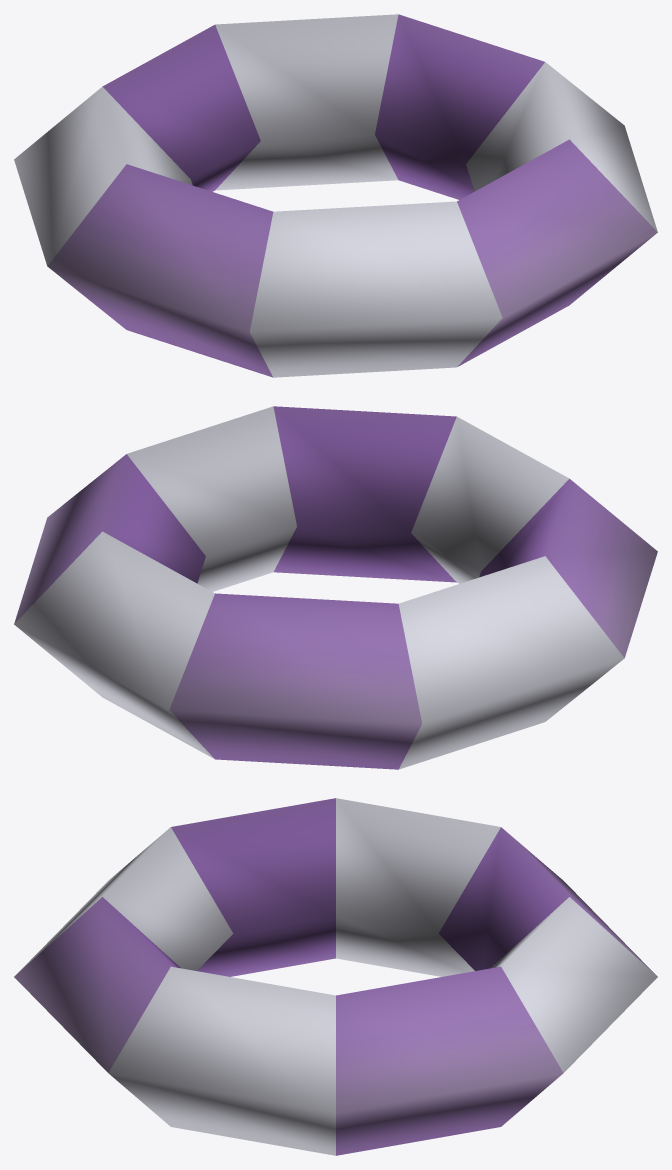
The model's file is RubbeRing_07.fbx.
3 renders of one model, top to bottom at view 1: azimuth 30°, elevation 25°; view 2: azimuth 150°, elevation 25°; view 3: azimuth 270°, elevation 25°, orthographic. The views are drawn at different scales.
Visible parts, largest first — view 1: RubbeRing_07; view 2: RubbeRing_07; view 3: RubbeRing_07.
Boxes of the visible parts, bbox=[...] form: RubbeRing_07: bbox=[14, 14, 657, 377]; RubbeRing_07: bbox=[14, 406, 657, 769]; RubbeRing_07: bbox=[14, 798, 657, 1155].
Bounding box in the file's own units: 0.17 × 0.0467 × 0.17.
